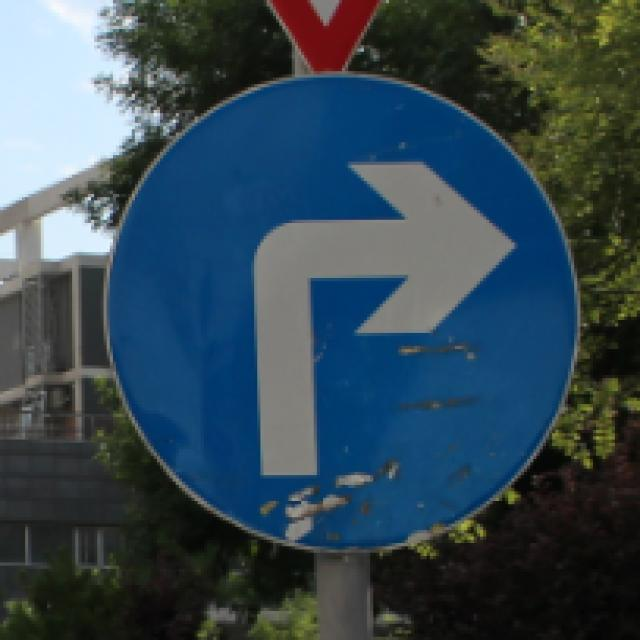Right: (95, 62, 590, 550)
